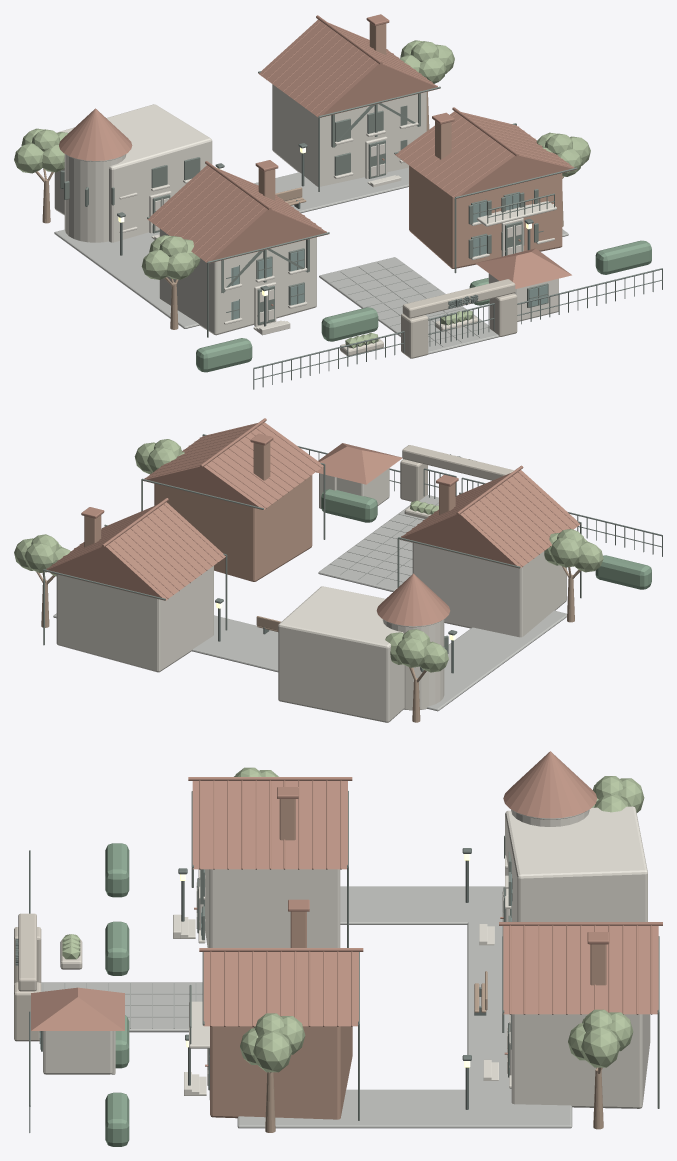
Rendered from xinhua-villas.glb.
3 renders of one model, top to bottom at view 1: azimuth 30°, elevation 25°; view 2: azimuth 150°, elevation 25°; view 3: azimuth 270°, elevation 25°, orthographic. The views are drawn at different scales.
Parts seen in each view (by area): view 1: xinhua-villas; view 2: xinhua-villas; view 3: xinhua-villas.
Part boxes in pixels (x1,y1,x2,y2): xinhua-villas: (14,14,662,389); xinhua-villas: (14,418,662,722); xinhua-villas: (14,751,662,1146).
Size of the model in its own units: 30.7 by 8.17 by 29.67.
